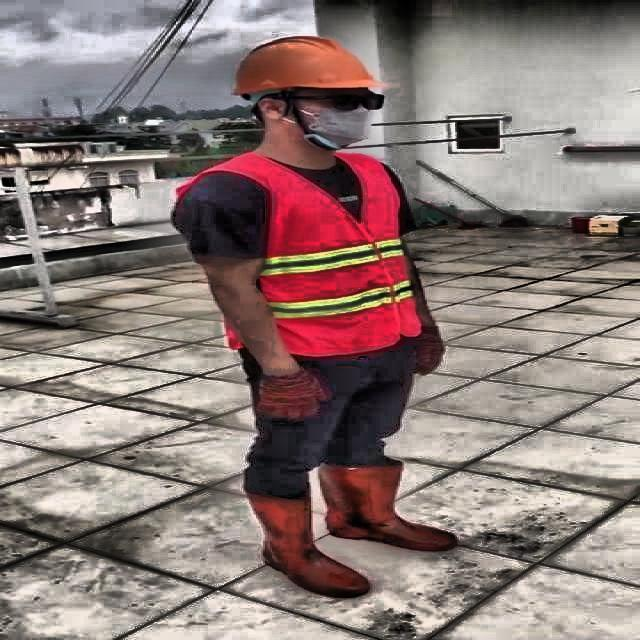safety_helmet: (220, 33, 392, 99)
safety_jacket: (176, 151, 420, 357)
